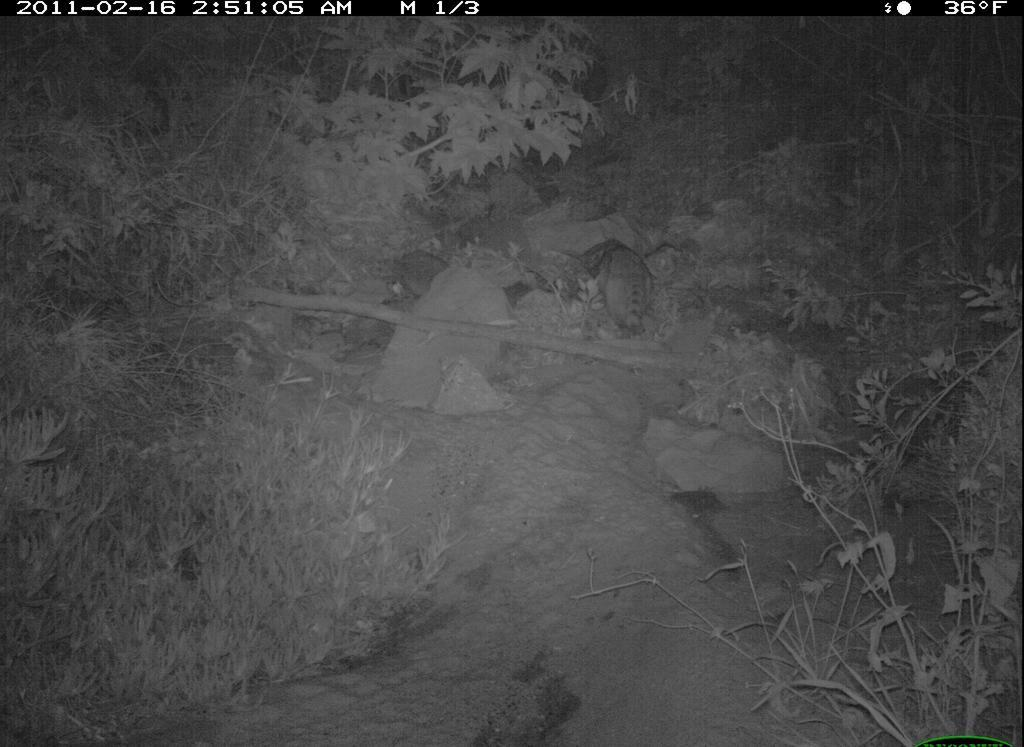raccoon: (546, 237, 674, 340)
